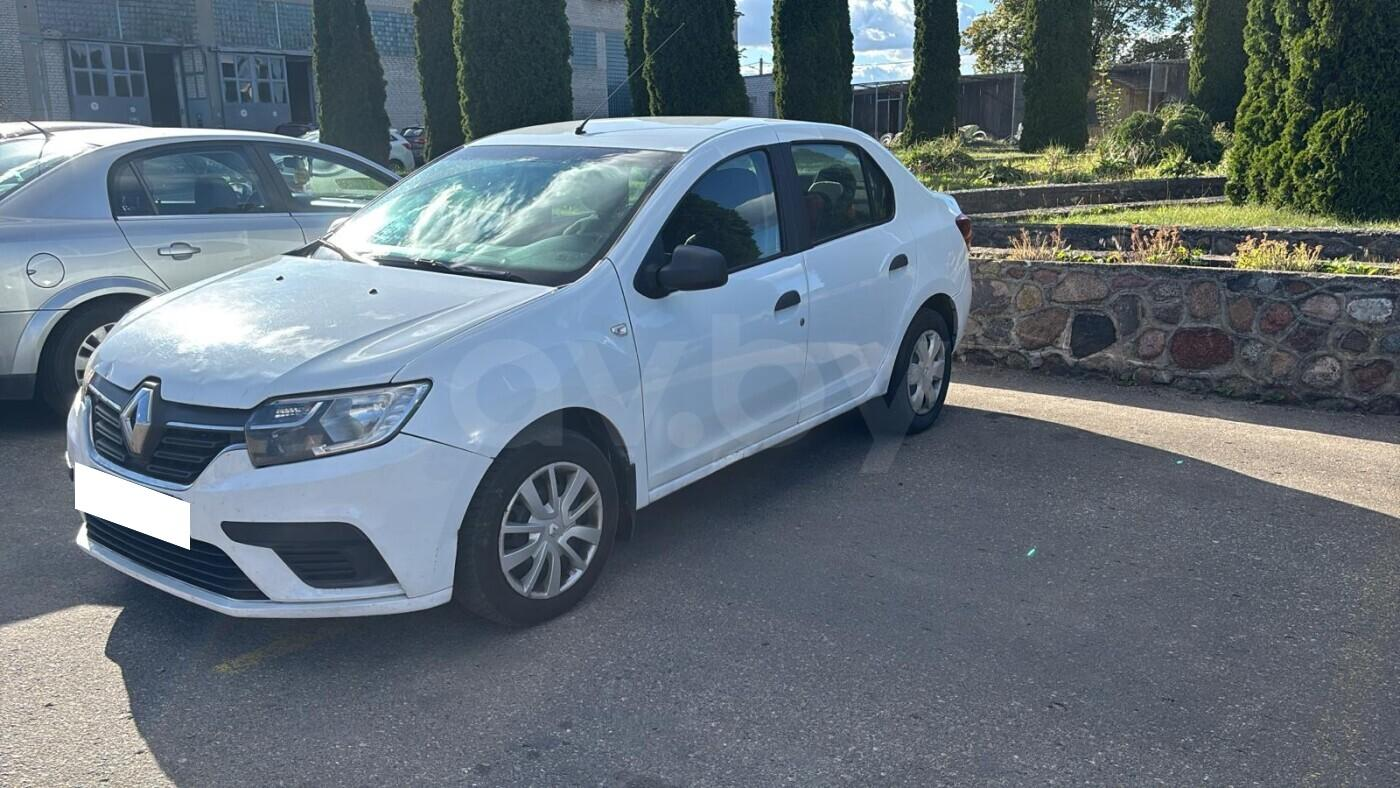Logan_2018: (65, 107, 976, 621)
